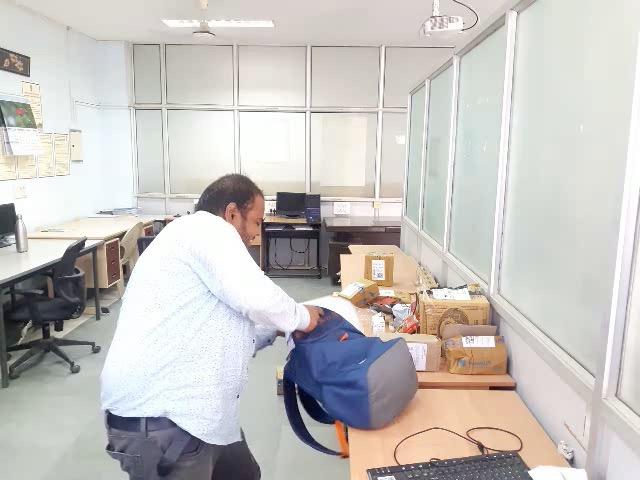shoplifting: (270, 291, 426, 433)
